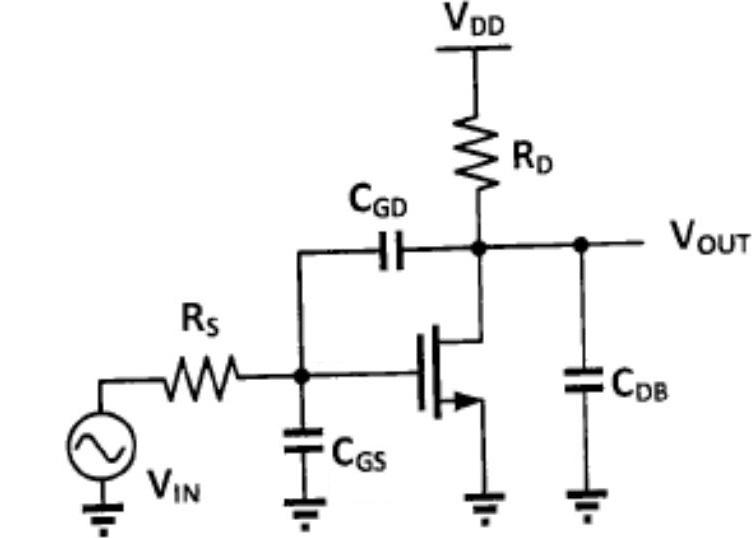capacity: (558, 357, 608, 401), (370, 224, 412, 276), (277, 420, 328, 459)
gnd: (559, 479, 612, 528), (457, 481, 510, 529), (277, 488, 331, 535), (74, 496, 128, 538)
nmos: (403, 314, 493, 424)
resistor: (152, 346, 248, 408), (445, 103, 506, 200)
voltage: (58, 402, 142, 488)
